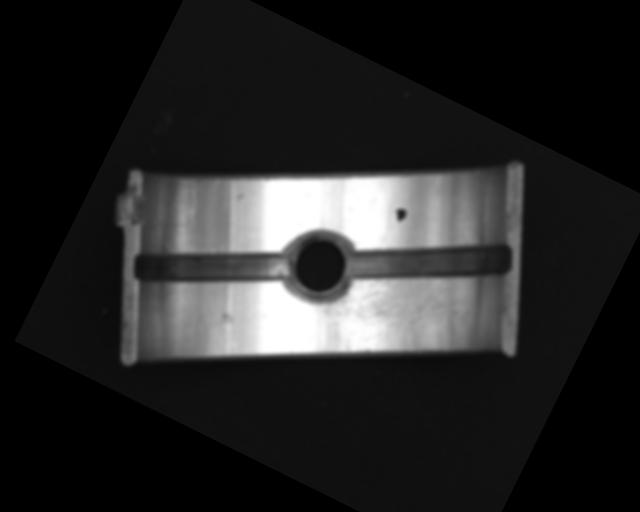blot: (390, 204, 409, 225)
bruise: (216, 309, 237, 330), (234, 191, 246, 204)
gap: (343, 186, 518, 338), (127, 198, 295, 338)
hole: (272, 218, 366, 316)
nick: (171, 177, 211, 226)
scratch: (291, 227, 471, 399)
